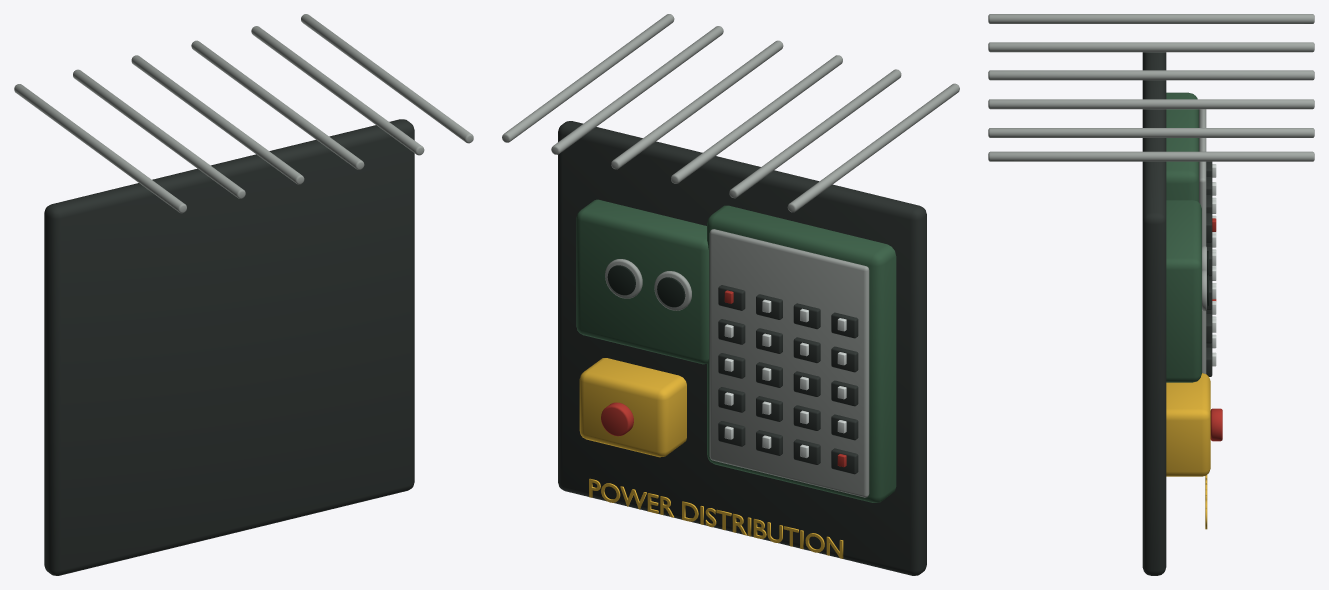
The model's file is electrical_wall_v3.glb.
3 views of the same model, side by side, from view 1: azimuth 30°, elevation 25°; view 2: azimuth 150°, elevation 25°; view 3: azimuth 270°, elevation 25° (orthographic).
Parts seen in each view (by area): view 1: Elec_Backboard, ElecConduit-0.1, ElecConduit1.2, ElecConduit0.82, ElecConduit-1.0, ElecConduit0.36, ElecConduit-0.55; view 2: Elec_Backboard, BreakerDoor, MeterBox, BreakerCabinet, EmergencyIsolator, ElecLabel, ElecConduit-0.55, ElecConduit-1.0, ElecConduit0.82, ElecConduit0.36, ElecConduit-0.1, ElecConduit1.2 (+3 smaller); view 3: Elec_Backboard, MeterBox, EmergencyIsolator, ElecConduit-0.55, ElecConduit-0.1, ElecConduit0.36, ElecConduit1.2, ElecConduit-1.0, ElecConduit0.82, BreakerCabinet, BreakerDoor, IsolatorKnob.
Part boxes in pixels (<box>): Elec_Backboard: <box>44,119,414,575</box>; ElecConduit-0.1: <box>131,55,304,184</box>; ElecConduit1.2: <box>301,14,473,143</box>; ElecConduit0.82: <box>251,26,424,155</box>; ElecConduit-1.0: <box>14,84,186,213</box>; ElecConduit0.36: <box>191,40,364,169</box>; ElecConduit-0.55: <box>73,69,245,198</box>; Elec_Backboard: <box>558,121,926,575</box>; BreakerDoor: <box>709,229,869,497</box>; MeterBox: <box>576,199,708,364</box>; BreakerCabinet: <box>707,205,896,502</box>; EmergencyIsolator: <box>579,358,686,457</box>; ElecLabel: <box>589,478,843,558</box>; ElecConduit-0.55: <box>729,69,901,198</box>; ElecConduit-1.0: <box>787,83,959,212</box>; ElecConduit0.82: <box>551,26,723,154</box>; ElecConduit0.36: <box>611,40,783,169</box>; ElecConduit-0.1: <box>671,55,842,183</box>; ElecConduit1.2: <box>502,14,674,142</box>; Elec_Backboard: <box>1142,52,1166,575</box>; MeterBox: <box>1166,200,1201,382</box>; EmergencyIsolator: <box>1166,373,1210,476</box>; ElecConduit-0.55: <box>988,42,1314,52</box>; ElecConduit-0.1: <box>988,70,1314,80</box>; ElecConduit0.36: <box>988,99,1314,109</box>; ElecConduit1.2: <box>988,151,1314,161</box>; ElecConduit-1.0: <box>988,14,1314,23</box>; ElecConduit0.82: <box>988,128,1314,137</box>; BreakerCabinet: <box>1166,92,1198,201</box>; BreakerDoor: <box>1199,109,1206,373</box>; IsolatorKnob: <box>1210,408,1222,441</box>.
Size of the model in its own units: 2.8 by 3.08 by 2.2.
